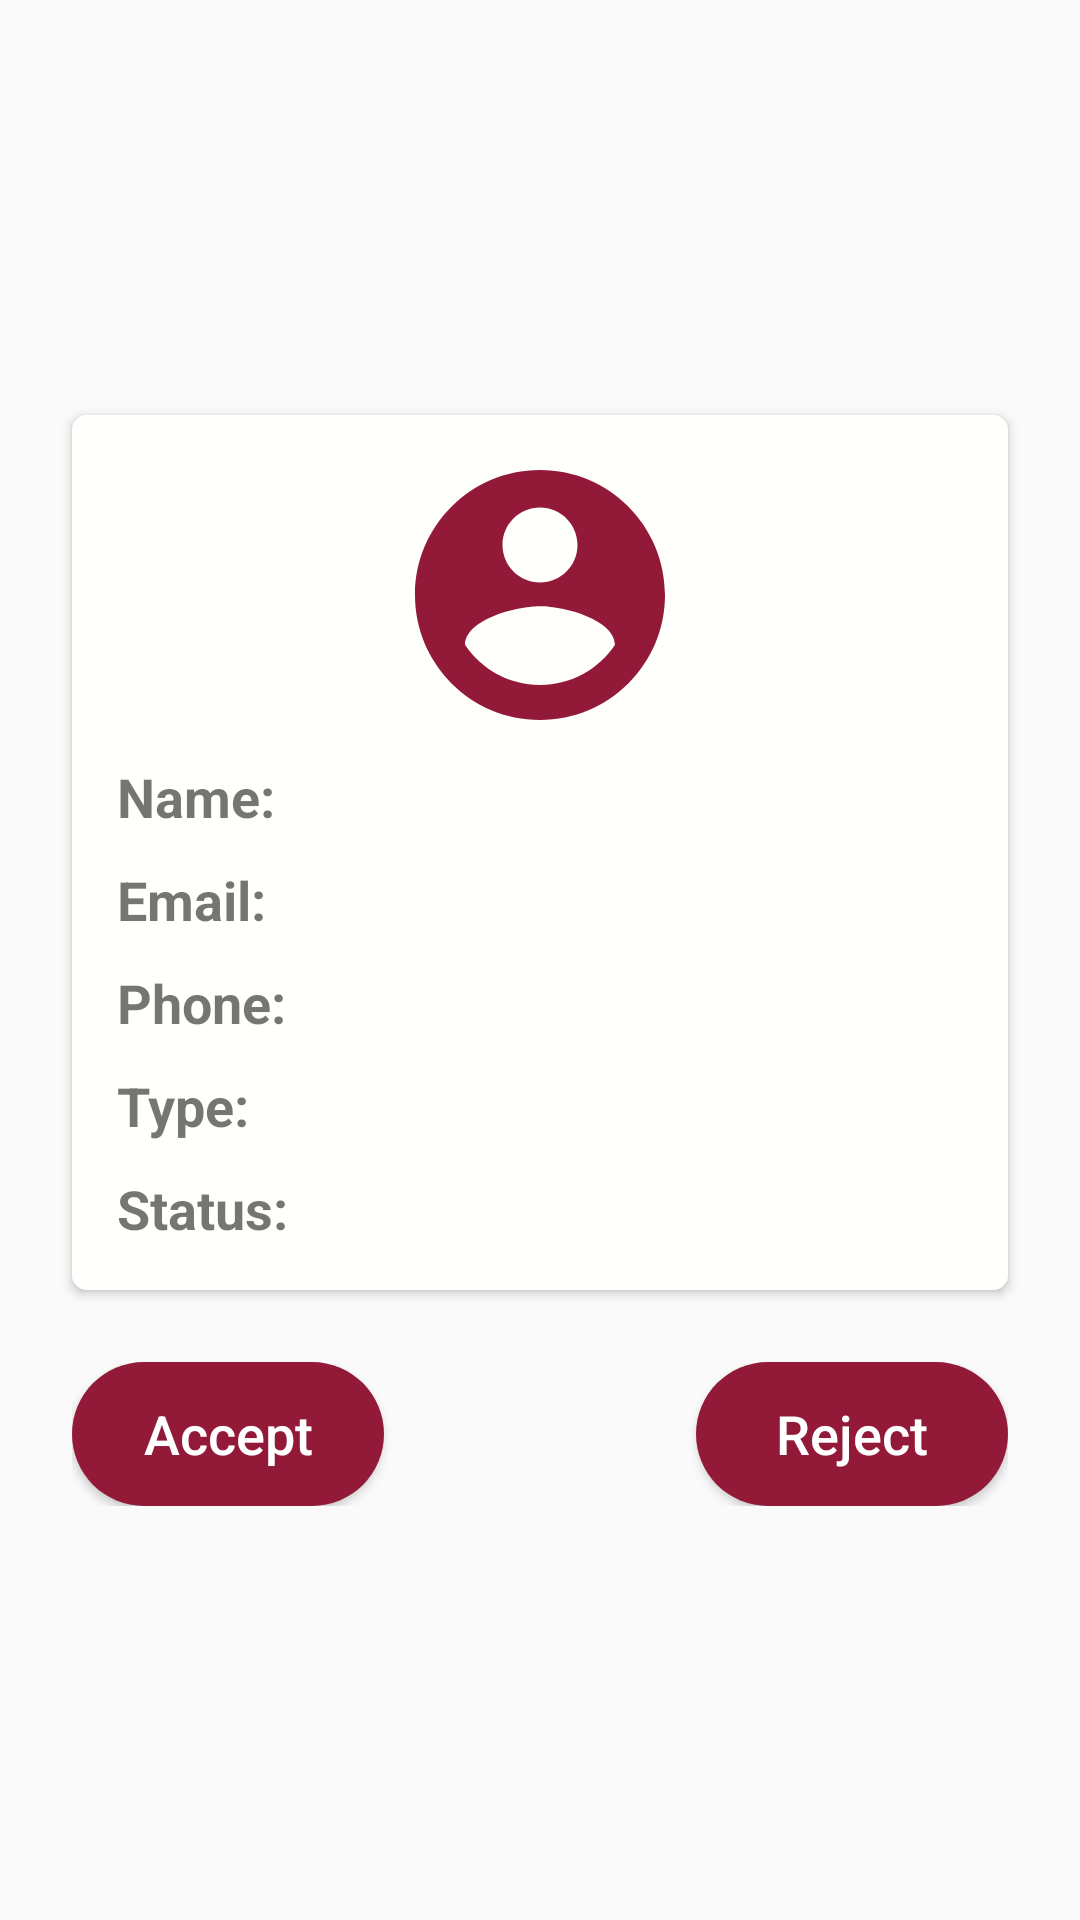

Icons on this 1080px x 1920px Android screen, each with its box as [left=x1, top=y1, right=x2, bottom=y2]:
user: [left=415, top=470, right=665, bottom=720]
